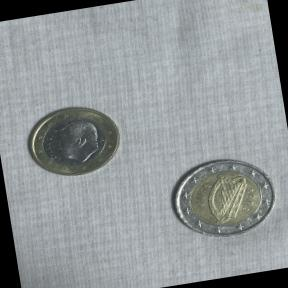coin: (160, 145, 288, 250), (19, 97, 128, 186)
